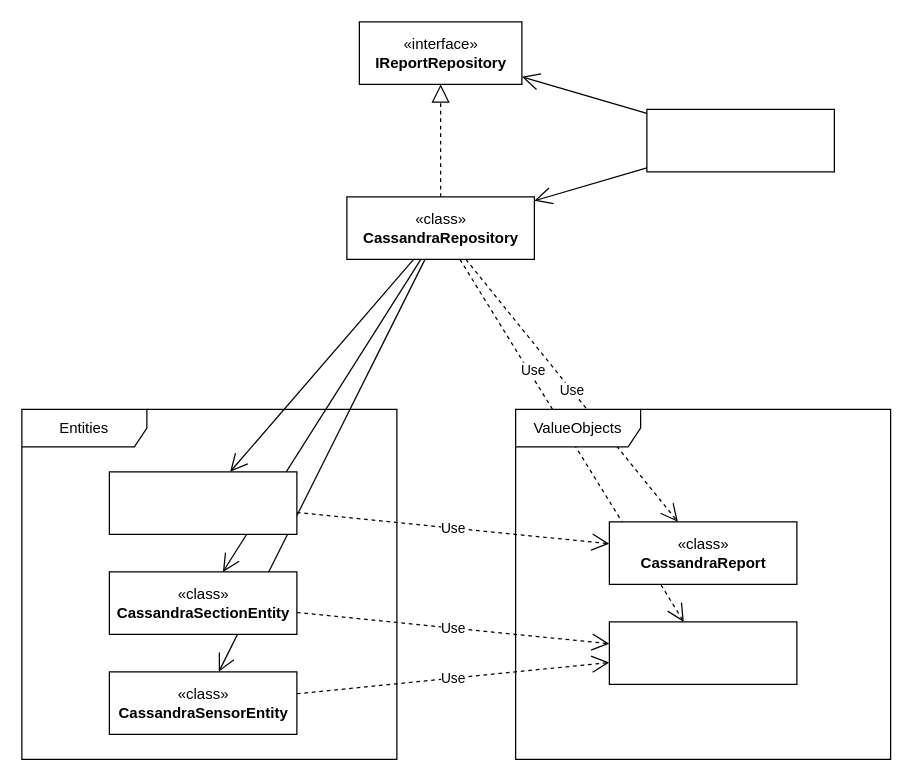
Some shapes in this 913 by 781 pixel diagram are drawn without their labels. The shapes that lost their labels are listed below. From the top down, each one's centre as x and y in pixels, then its label:
the point at 740,140: «class» ReportRepositoryFabric
the point at 202,502: «class» CassandraReportEntity
the point at 702,652: «class» CassandraSensor
